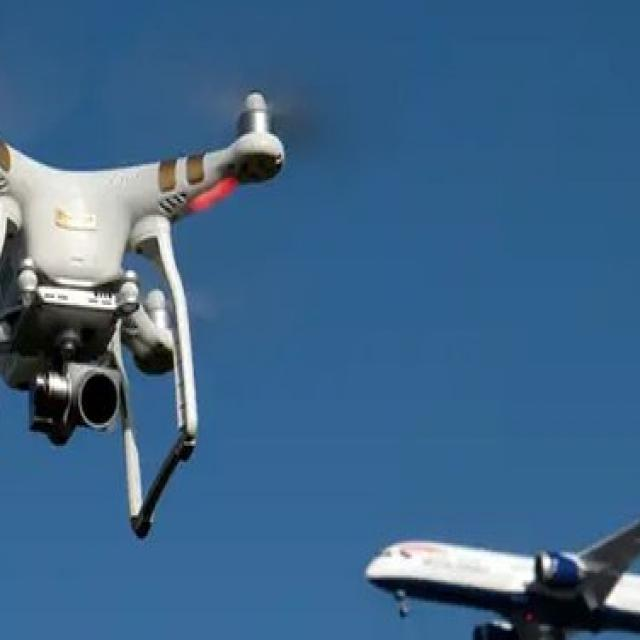drone: (0, 21, 320, 453)
